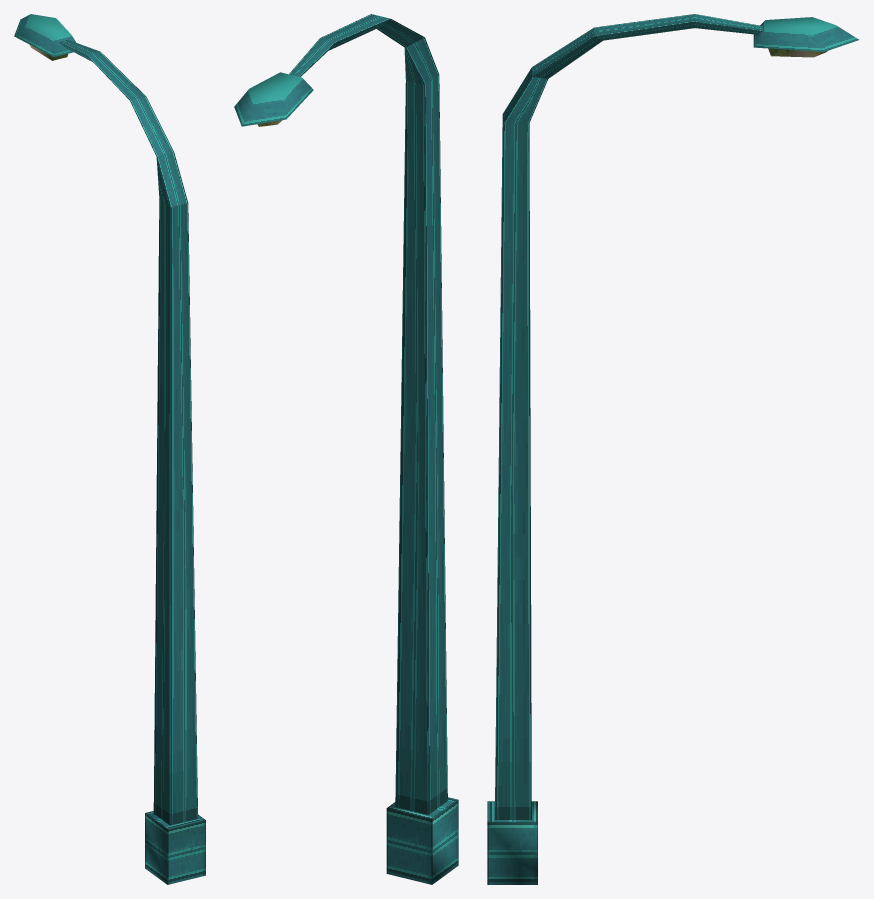
The model's file is streetlamp.fbx.
The picture shows the model from 3 angles, left to right: view 1: azimuth 30°, elevation 25°; view 2: azimuth 150°, elevation 25°; view 3: azimuth 270°, elevation 25°; orthographic projection. The views are drawn at different scales.
Parts seen in each view (by area): view 1: l1_streetlamp_Shape; view 2: l1_streetlamp_Shape; view 3: l1_streetlamp_Shape.
Boxes of the visible parts, x1,y1,x2,y2 form: l1_streetlamp_Shape: (14,14,205,884); l1_streetlamp_Shape: (234,14,458,884); l1_streetlamp_Shape: (487,14,858,884).
Bounding box in the file's own units: 64.29 × 1058 × 417.
